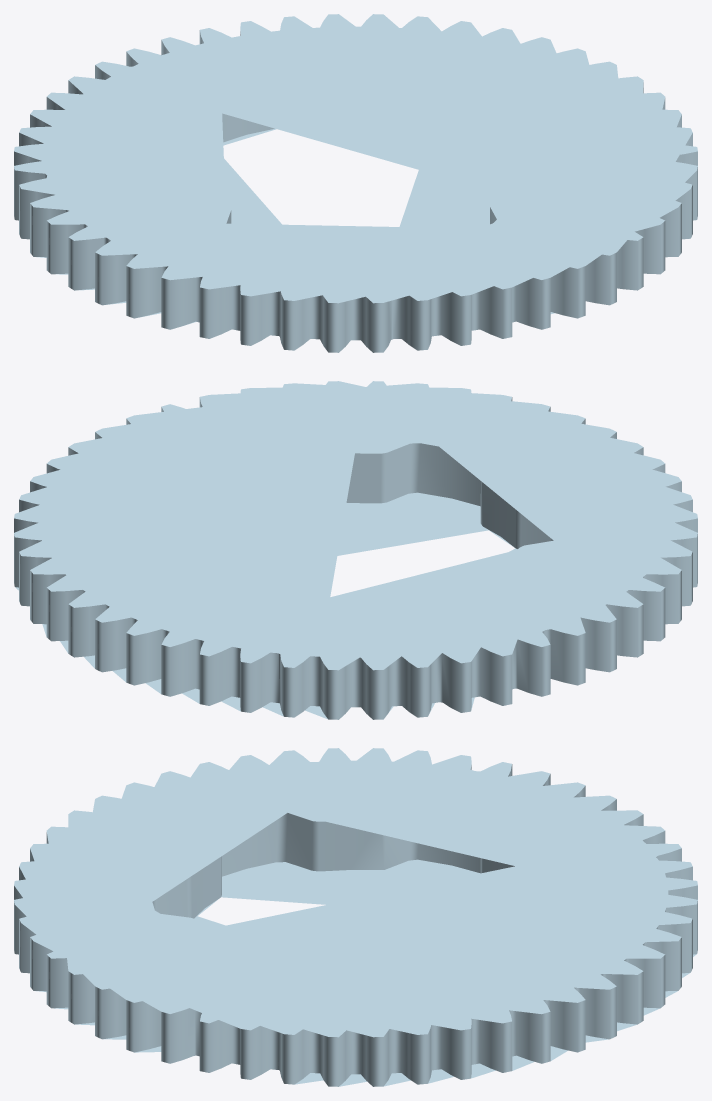
File: spline48t.fbx
The picture shows the model from 3 angles, top to bottom: view 1: azimuth 30°, elevation 25°; view 2: azimuth 150°, elevation 25°; view 3: azimuth 270°, elevation 25°; orthographic projection.
Visible parts, largest first — view 1: Spur gear (48 teeth); view 2: Spur gear (48 teeth); view 3: Spur gear (48 teeth).
Part boxes in pixels (x1=…): Spur gear (48 teeth): x1=14, y1=14, x2=697, y2=352; Spur gear (48 teeth): x1=14, y1=381, x2=697, y2=719; Spur gear (48 teeth): x1=14, y1=748, x2=697, y2=1086.
Bounding box in the file's own units: 6.34 × 0.508 × 6.34.
